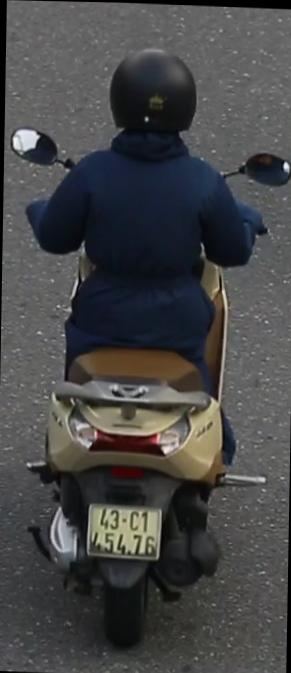LP: (84, 497, 164, 563)
helmet: (104, 39, 201, 158)
